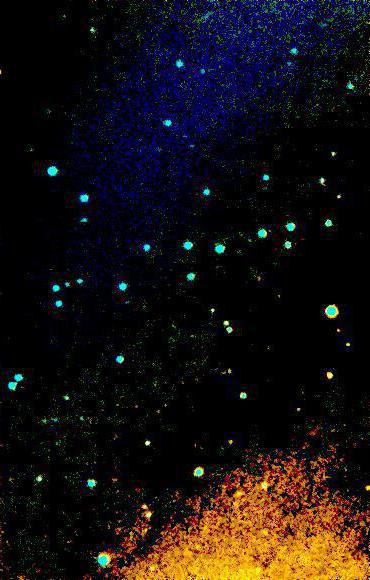star: (50, 3, 80, 33)
